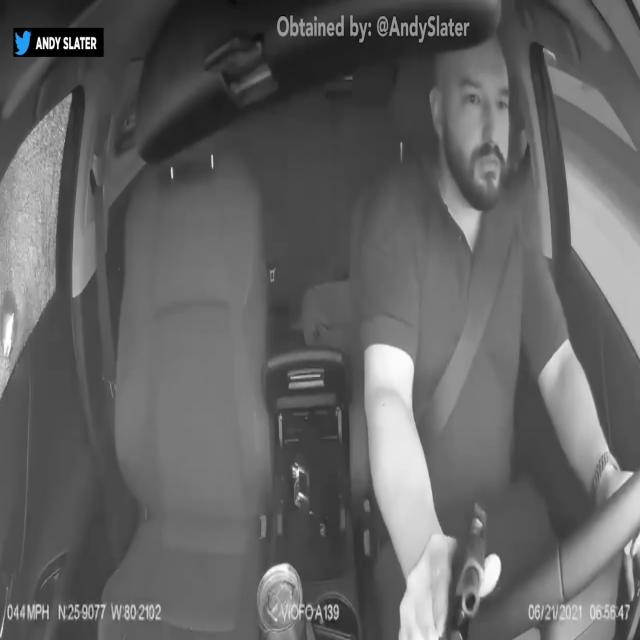senjata_api: (440, 493, 489, 640)
